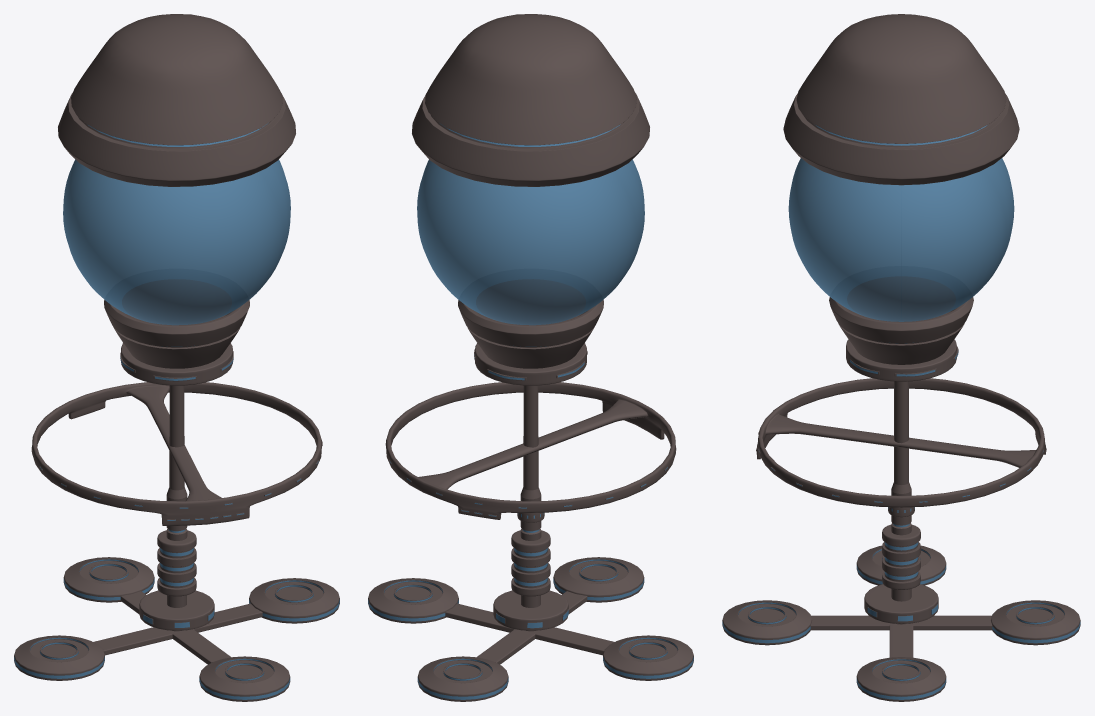
The model's file is maya2sketchfab.fbx.
3 renders of one model, left to right at view 1: azimuth 30°, elevation 25°; view 2: azimuth 150°, elevation 25°; view 3: azimuth 270°, elevation 25°, orthographic.
Visible parts, largest first — view 1: pCube2, pSphere1, pCylinder5, pCube3, pCylinder19, pCylinder18, pCylinder6, pCylinder17, pCylinder13, pCylinder4, polySurface8, pCube5 (+2 smaller); view 2: pCube2, pSphere1, pCylinder5, pCube3, pCylinder17, pCylinder18, pCylinder6, pCylinder19, pCylinder4, pCylinder13, polySurface8, pCube5 (+2 smaller); view 3: pCube2, pSphere1, pCylinder5, pCube3, pCylinder6, pCylinder17, pCylinder19, pCube6, pCylinder4, pCylinder13, polySurface8, polySurface2 (+2 smaller).
Part boxes in pixels (box(x1,y1,x2,y2)): pCube2: box(58, 14, 295, 186); pSphere1: box(63, 159, 290, 325); pCylinder5: box(32, 382, 321, 525); pCube3: box(104, 279, 249, 368); pCylinder19: box(199, 656, 290, 701); pCylinder18: box(14, 635, 104, 680); pCylinder6: box(249, 578, 339, 623); pCylinder17: box(63, 557, 154, 602); pCylinder13: box(157, 530, 196, 596); pCylinder4: box(166, 385, 187, 631); polySurface8: box(139, 590, 214, 630); pCube5: box(93, 603, 262, 655); pCube2: box(412, 14, 649, 186); pSphere1: box(417, 159, 644, 325); pCylinder5: box(386, 382, 675, 519); pCube3: box(458, 279, 603, 368); pCylinder17: box(417, 656, 508, 701); pCylinder18: box(603, 635, 693, 680); pCylinder6: box(368, 578, 458, 623); pCylinder19: box(553, 557, 644, 602); pCylinder4: box(520, 385, 541, 631); pCylinder13: box(511, 530, 550, 596); polySurface8: box(493, 590, 568, 630); pCube5: box(445, 603, 614, 655); pCube2: box(783, 14, 1019, 185); pSphere1: box(788, 158, 1014, 321); pCylinder5: box(756, 378, 1046, 507); pCube3: box(829, 277, 973, 364); pCylinder6: box(856, 657, 946, 701); pCylinder17: box(991, 600, 1080, 645); pCylinder19: box(722, 600, 811, 645); pCube6: box(810, 615, 992, 630); pCylinder4: box(891, 381, 911, 624); pCylinder13: box(882, 524, 920, 589); polySurface8: box(864, 584, 938, 623); polySurface2: box(846, 339, 956, 381).
Bounding box in the file's own units: 11.11 × 20.51 × 11.11.
